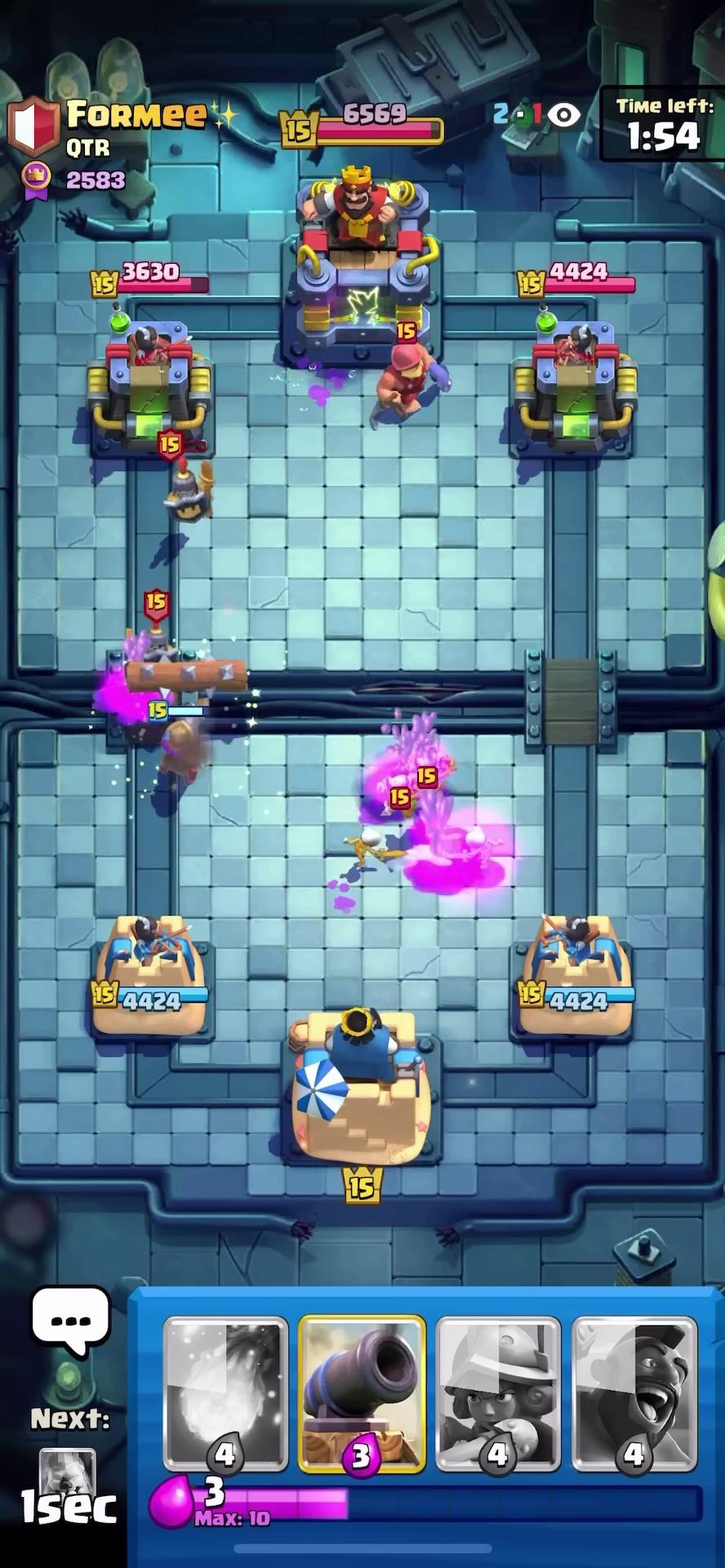log: (125, 662, 265, 702)
musketeer: (127, 694, 229, 790)
